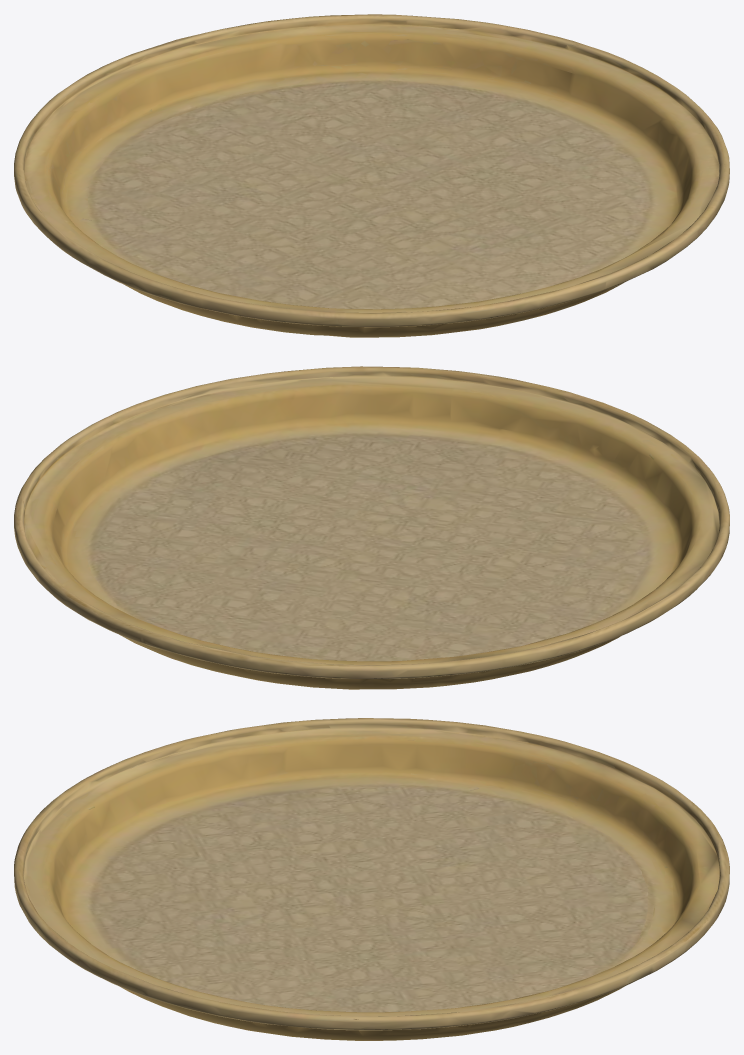
File: p-tray.glb
3 renders of one model, top to bottom at view 1: azimuth 30°, elevation 25°; view 2: azimuth 150°, elevation 25°; view 3: azimuth 270°, elevation 25°, orthographic.
Parts seen in each view (by area): view 1: node_0; view 2: node_0; view 3: node_0.
Boxes of the visible parts, box(x1,y1,x2,y2) form: node_0: box(14, 14, 729, 337); node_0: box(14, 366, 729, 689); node_0: box(14, 718, 729, 1040).
Bounding box in the file's own units: 1.19 × 0.0806 × 1.19.
1 material, 1 textured.
